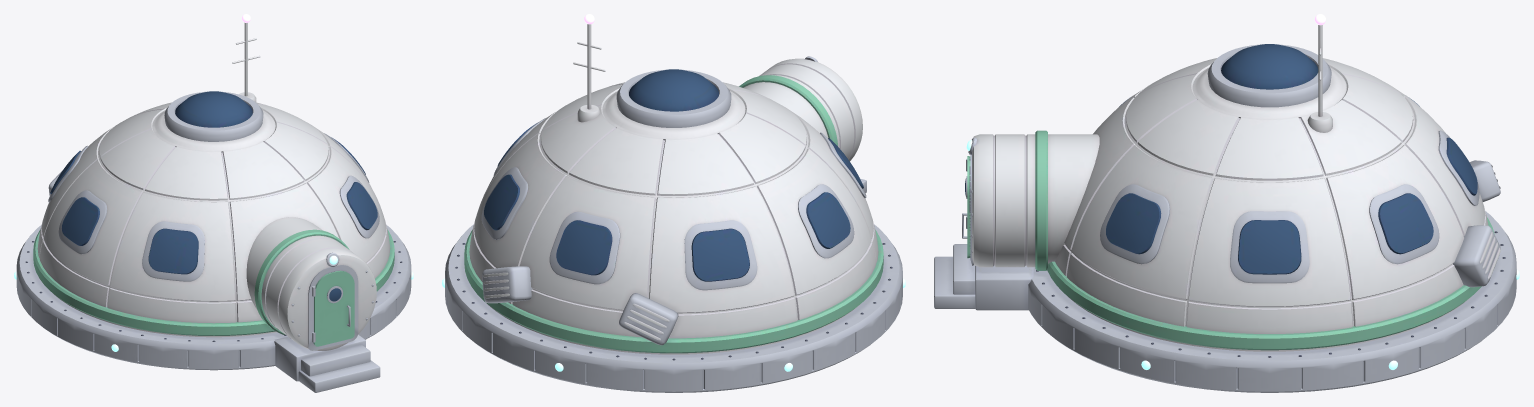
File: habitat-dome.glb
3 renders of one model, left to right at view 1: azimuth 30°, elevation 25°; view 2: azimuth 150°, elevation 25°; view 3: azimuth 270°, elevation 25°, orthographic. The views are drawn at different scales.
Visible parts, largest first — view 1: habitat-dome_body, habitat-dome_airlock_door; view 2: habitat-dome_body; view 3: habitat-dome_body.
Part boxes in pixels (x1,y1,x2,y2): habitat-dome_body: [16, 23, 411, 392]; habitat-dome_airlock_door: [312, 270, 354, 346]; habitat-dome_body: [445, 24, 902, 392]; habitat-dome_body: [934, 25, 1516, 392].
Size of the model in its own units: 7.8 by 5.36 by 9.25.
Materials: 4 (2 with a texture image).
